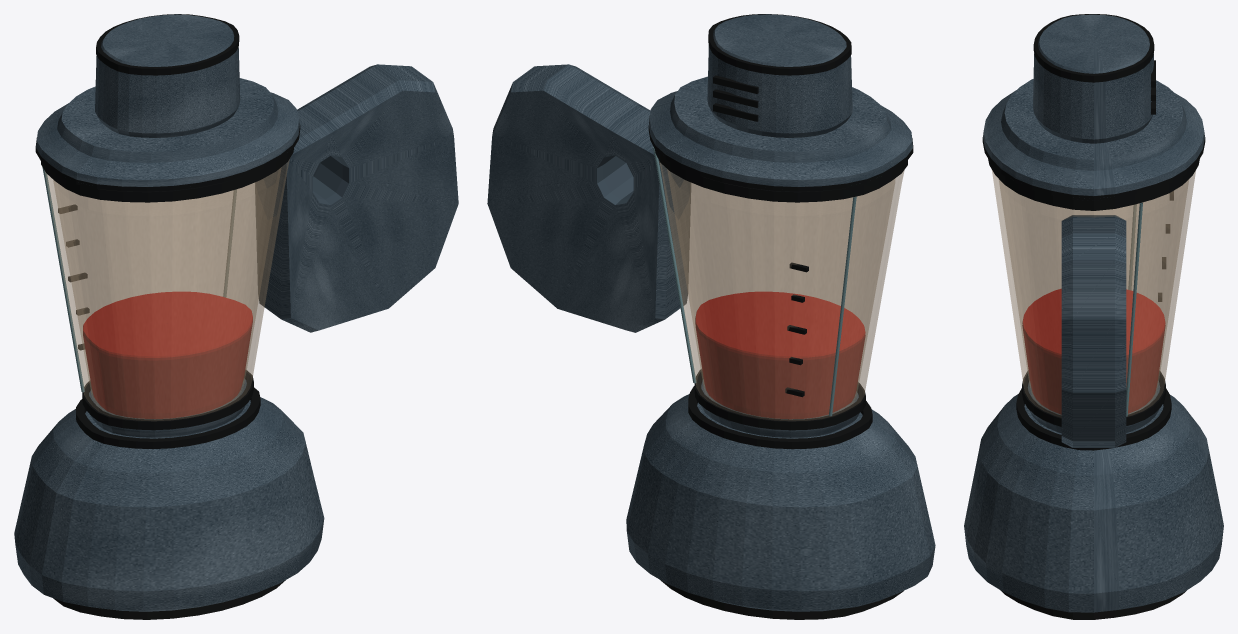
The model's file is blender_reference.obj.
3 renders of one model, left to right at view 1: azimuth 30°, elevation 25°; view 2: azimuth 150°, elevation 25°; view 3: azimuth 270°, elevation 25°, orthographic.
Parts seen in each view (by area): view 1: MotorBase, GlassJug, Handle, Lid, LidCap, Juice, JuiceSurface, JugTopRim, JugSeat, JugBottomRim, CapTopEdge, RubberFoot (+3 smaller); view 2: MotorBase, GlassJug, Handle, Lid, LidCap, Juice, JuiceSurface, JugTopRim, JugSeat, JugBottomRim, RubberFoot, CapTopEdge (+4 smaller); view 3: MotorBase, GlassJug, Handle, Lid, LidCap, Juice, JuiceSurface, JugTopRim, CapTopEdge, JugSeat, JugBottomRim, LidSeam (+3 smaller).
Part boxes in pixels (x1,y1,x2,y2): MotorBase: (14,397,324,611); GlassJug: (45,159,289,420); Handle: (255,64,458,332); Lid: (36,78,299,186); LidCap: (95,14,240,137); Juice: (83,320,252,418); JuiceSurface: (83,291,252,357); JugTopRim: (41,148,293,202); JugSeat: (76,387,260,449); JugBottomRim: (82,370,253,430); CapTopEdge: (96,14,239,75); RubberFoot: (53,580,285,619); MotorBase: (626,394,935,611); GlassJug: (659,161,904,420); Handle: (487,64,690,332); Lid: (649,76,912,186); LidCap: (707,14,852,137); Juice: (695,322,865,419); JuiceSurface: (695,291,865,357); JugTopRim: (655,150,907,202); JugSeat: (688,386,872,449); JugBottomRim: (694,369,865,430); RubberFoot: (660,580,903,619); CapTopEdge: (708,14,851,75); MotorBase: (964,394,1223,612); GlassJug: (992,170,1195,417); Handle: (1061,215,1126,447); Lid: (983,79,1204,198); LidCap: (1033,14,1153,143); Juice: (1022,325,1165,414); JuiceSurface: (1022,289,1165,355); JugTopRim: (988,159,1199,210); CapTopEdge: (1033,14,1154,82); JugSeat: (1016,388,1171,450); JugBottomRim: (1022,371,1165,426); LidSeam: (982,135,1205,200).
Size of the model in its own units: 0.8521 by 1.04 by 0.4674.
Materials: 8 (2 with a texture image).
